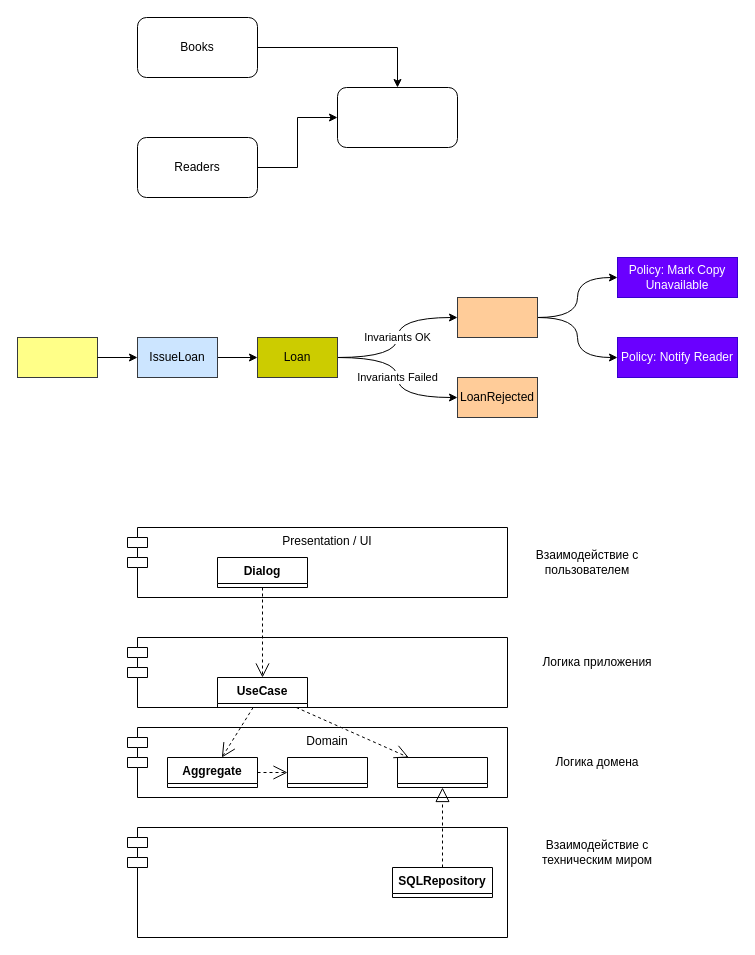
The diagram is 755 pixels wide and 955 high, and some of its shapes have lost their labels. Here are the shapes that lost their labels. From the top down, the box of each, then its label:
(336, 86, 458, 148): Loans
(456, 296, 538, 338): LoanOpened
(16, 336, 98, 378): Reader
(126, 636, 508, 708): Application
(286, 756, 368, 788): ValueObj
(396, 756, 488, 788): IRepository
(126, 826, 508, 938): Infrastructure
